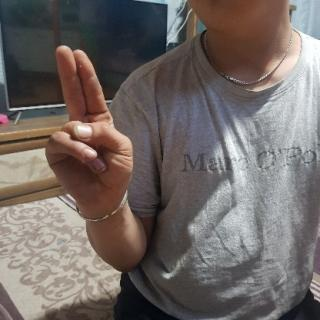TA: (46, 44, 138, 217)
